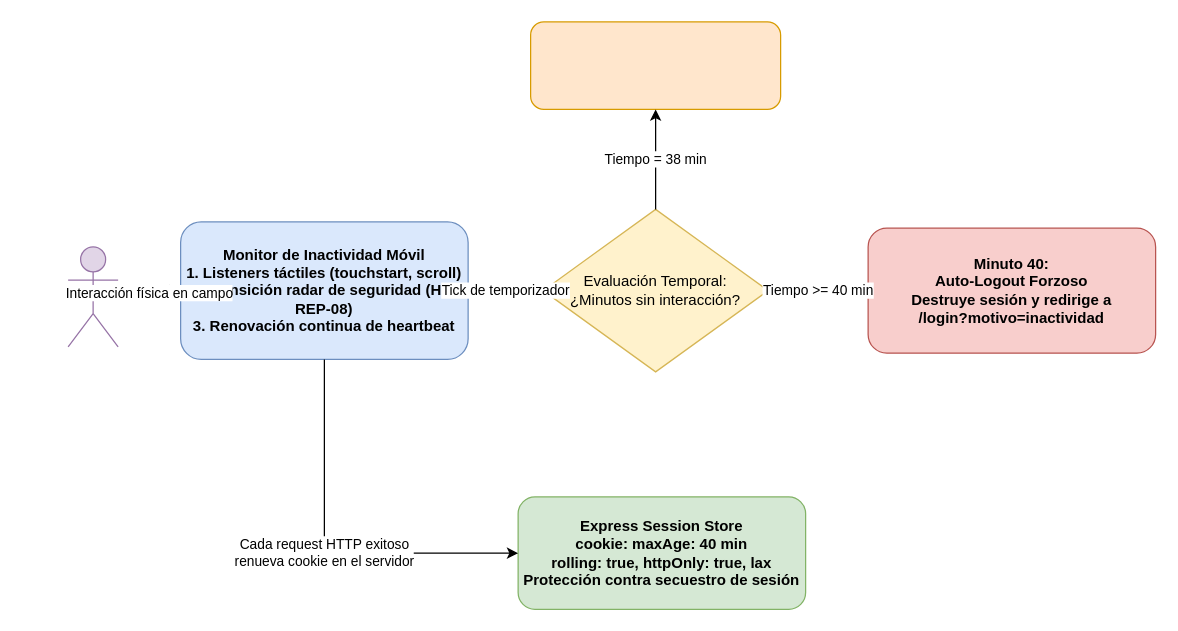
The diagram is 1178 pixels wide and 631 high, and some of its shapes have lost their labels. The shapes that lost their labels are listed below. From the top down, each one's centre as x and y in pixels, then its label:
At (655,65): "Minuto 38: Toast Crítico de Advertencia 'Sesión expira en 2 minutos'".
At (92,296): "Reportero en Terreno".
